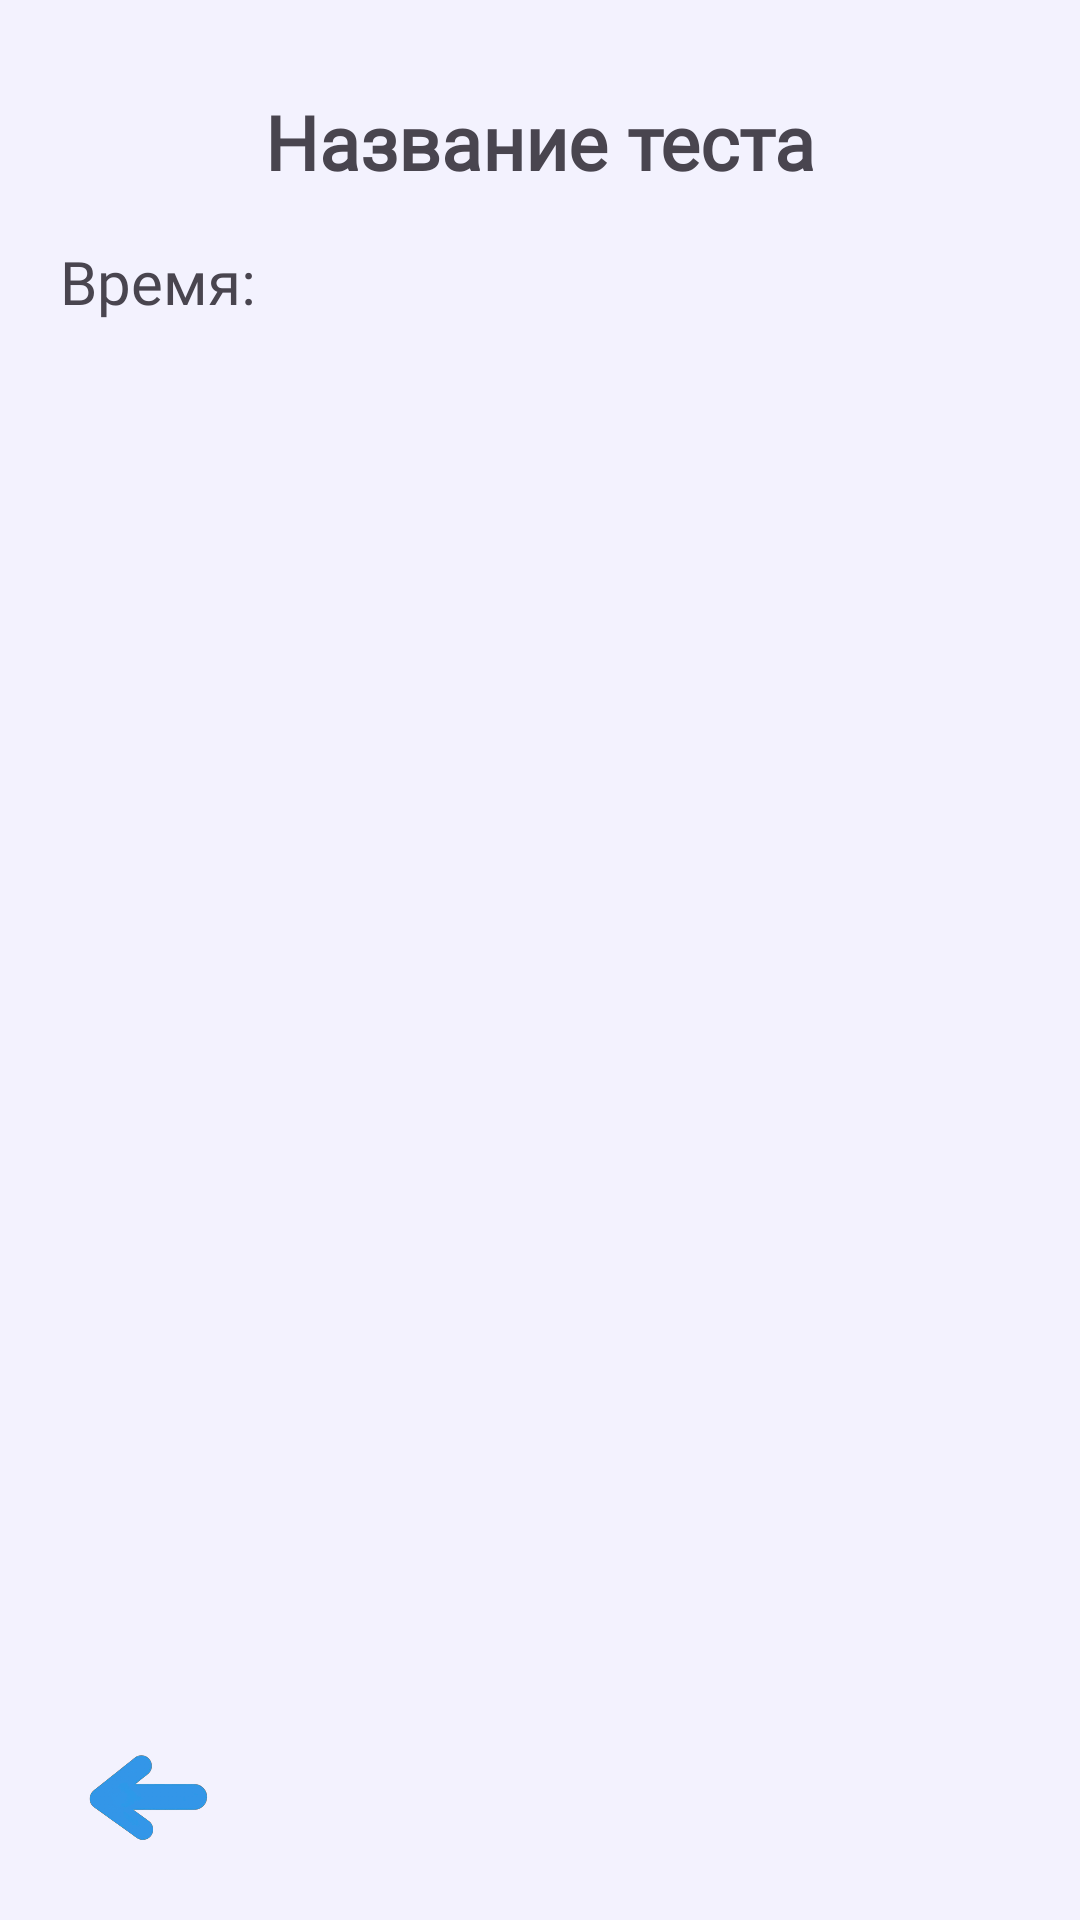

Icon bounding boxes for this 1080 x 1920 phone screenshot, format [x1, y1, x2, y2]:
back: [89, 1755, 207, 1840]
